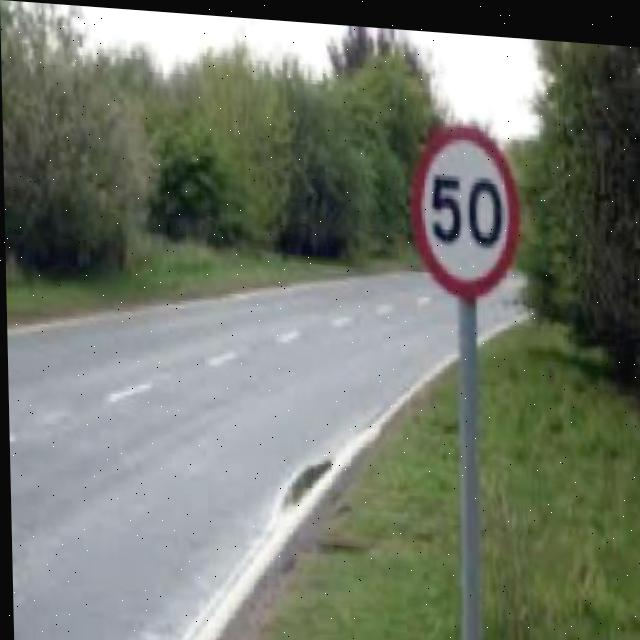Speed limit 50: (405, 109, 526, 298)
